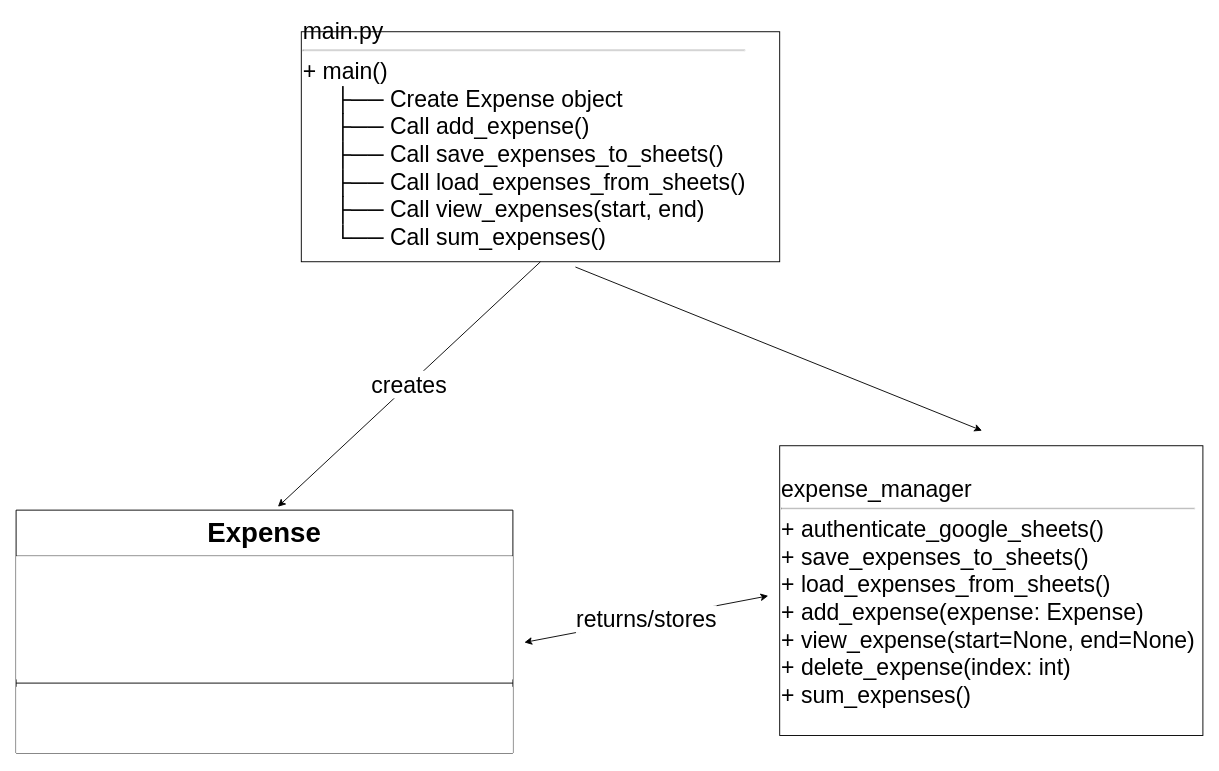
This 1219x771 diagram has some shape labels left out. The centre of each missing label's shape, as x and y in pixels:
"+ __init__() + __str__()" belongs at [264,719].
"+ amount: float + date: str + category: str + description: str" belongs at [264,617].
